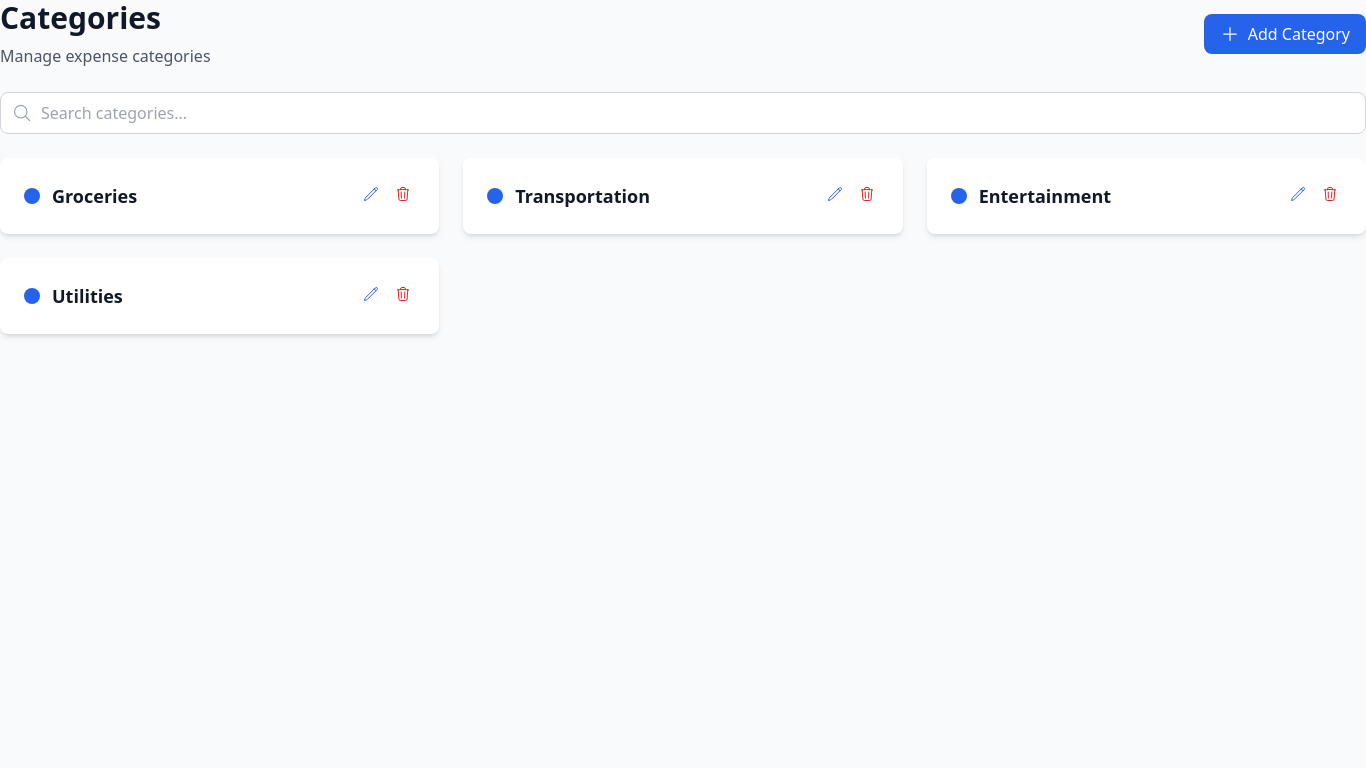
Categories › CRUD Operations › opens edit category modal when edit button is clicked
Click the 2nd button at {"x": 371, "y": 194}, box [359,182,383,206]
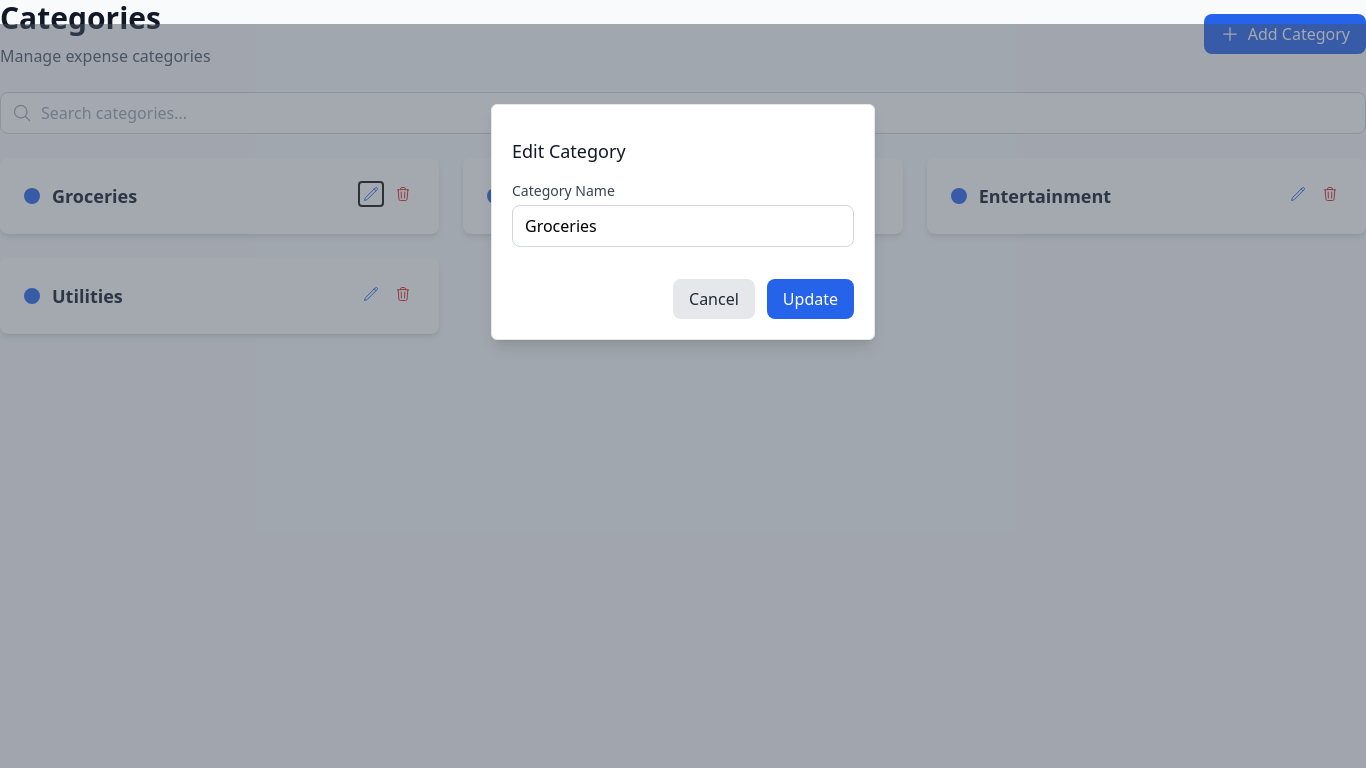
Check: the heading "Edit Category" is shown, box [512,139,626,163]
Check: the field showing "Groceries" is shown, box [512,205,854,247]
